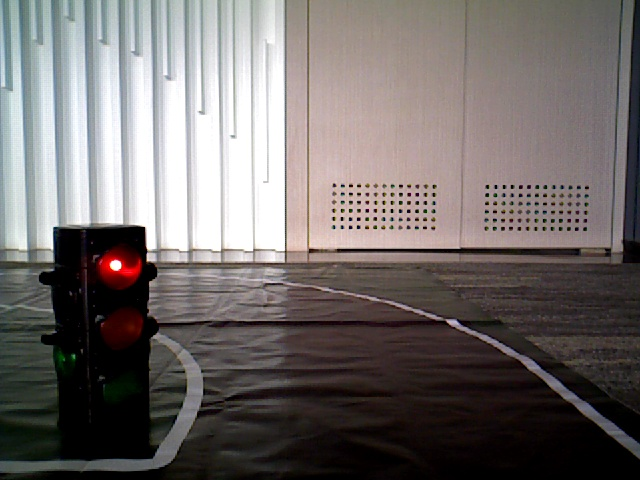red: (78, 235, 148, 433)
